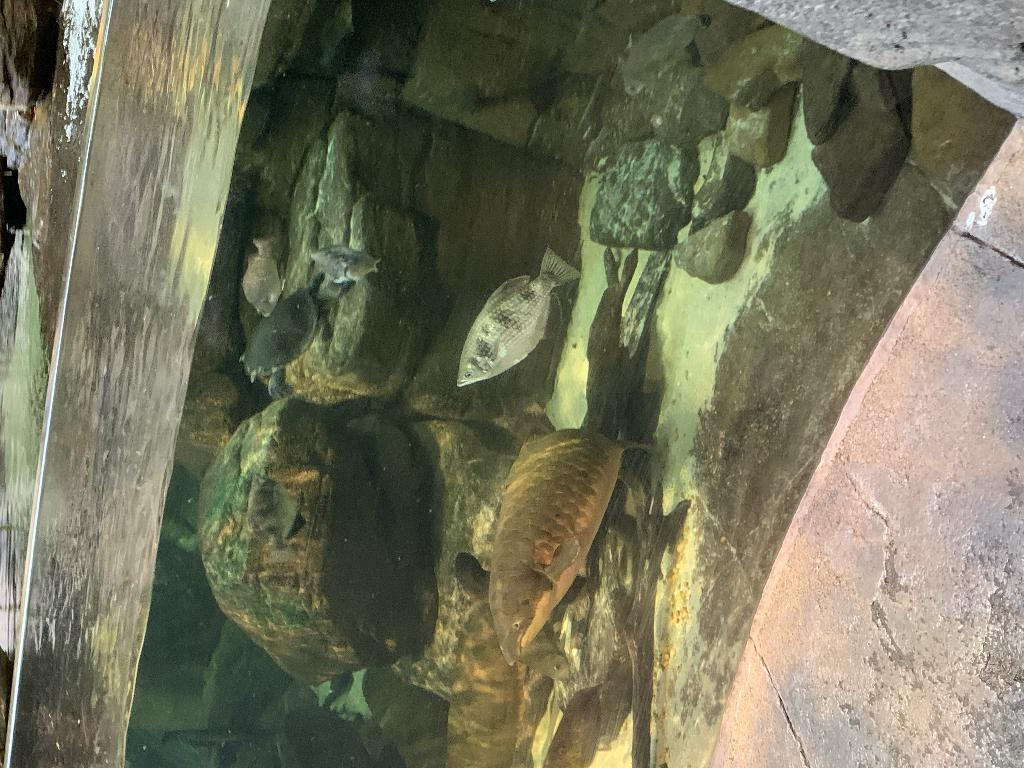fish: (485, 413, 625, 664), (451, 246, 585, 388), (620, 10, 710, 100), (238, 233, 290, 319), (300, 240, 382, 286), (522, 622, 572, 682)
